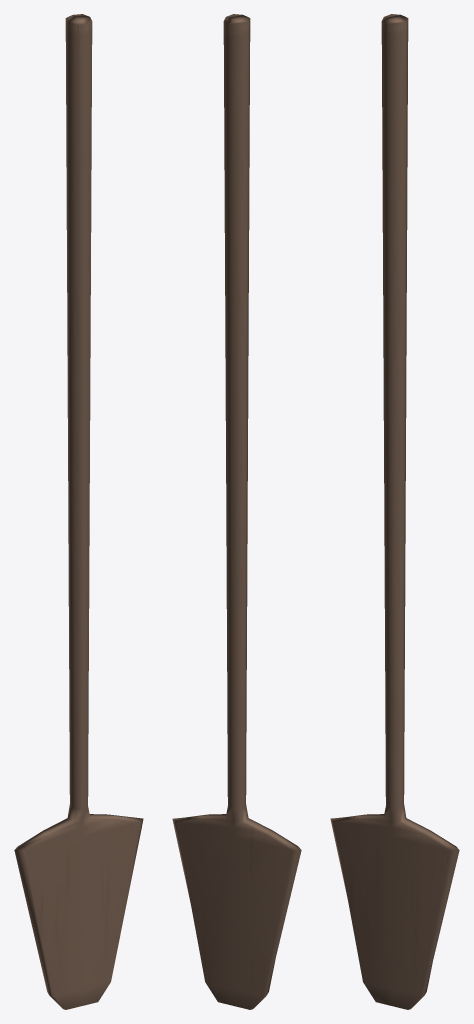
File: SM_Oar_01.fbx
3 views of the same model, side by side, from view 1: azimuth 30°, elevation 25°; view 2: azimuth 150°, elevation 25°; view 3: azimuth 330°, elevation 25° (orthographic).
Parts seen in each view (by area): view 1: SM_Oar_01; view 2: SM_Oar_01; view 3: SM_Oar_01.
Part boxes in pixels (<box>): SM_Oar_01: <box>14,14,143,1009</box>; SM_Oar_01: <box>172,14,301,1009</box>; SM_Oar_01: <box>330,14,459,1009</box>.
Size of the model in its own units: 25.69 by 4.45 by 187.
